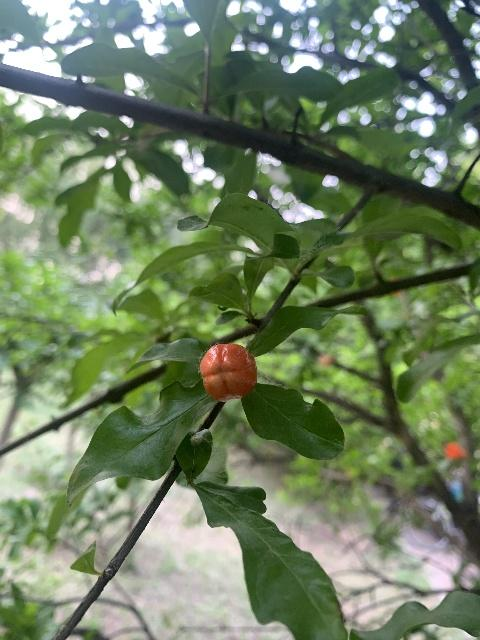bud: (200, 342, 257, 402)
